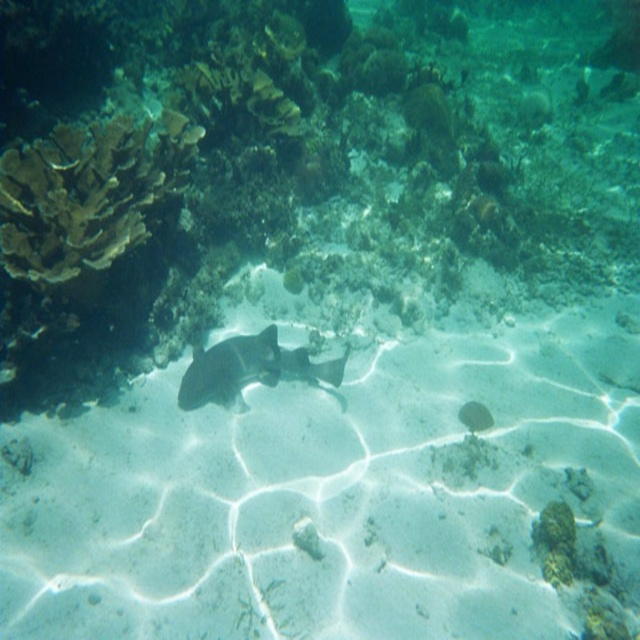Fish: (178, 324, 351, 415)
